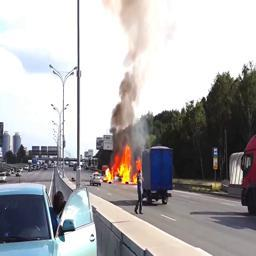fire: (106, 145, 142, 184)
